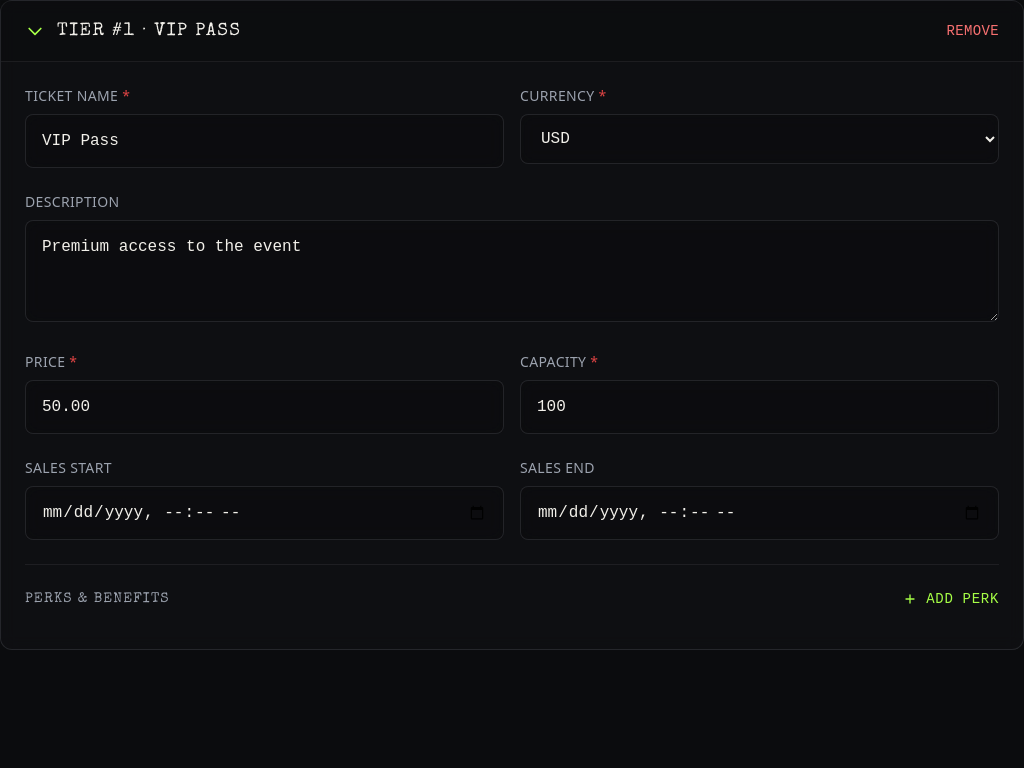
Test: TicketTypeCard › collapsible behavior › should toggle collapsed state when header is clicked
This screenshot has width=1024, height=768.
Note: Component shows "Tier #1" in the header
Click the heading "Tier #1 · VIP Pass" at (149, 31), box [57,17,241,45]
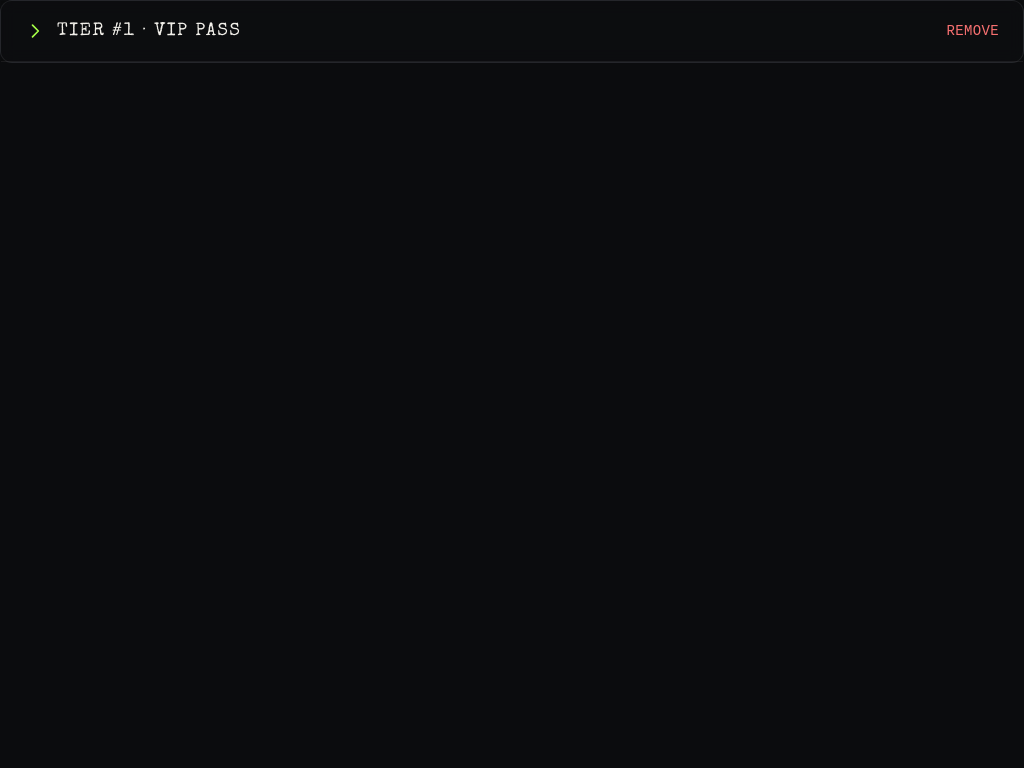
Result: the label labelled "Description" is gone
